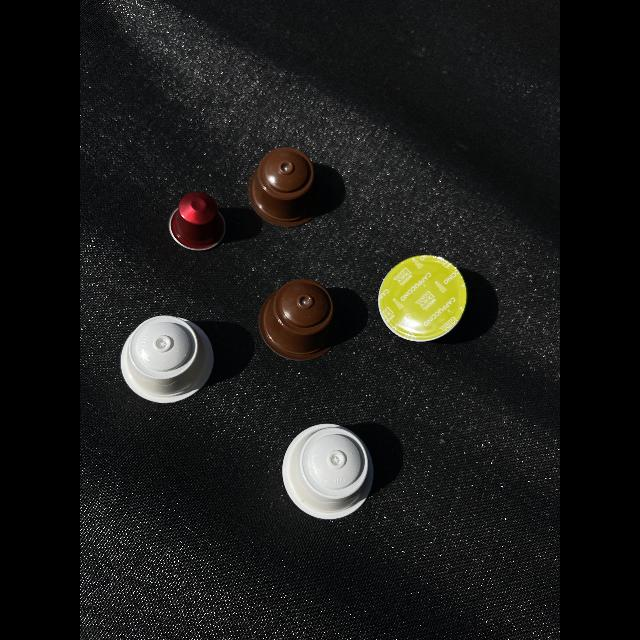intact_capsule: (274, 412, 386, 528), (120, 307, 220, 415), (248, 274, 356, 374), (244, 140, 338, 234), (377, 252, 469, 344), (161, 188, 231, 258)
